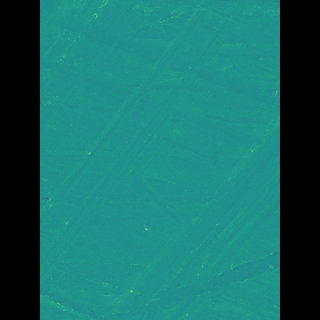Loch: (69, 0, 226, 283), (121, 111, 249, 320)
